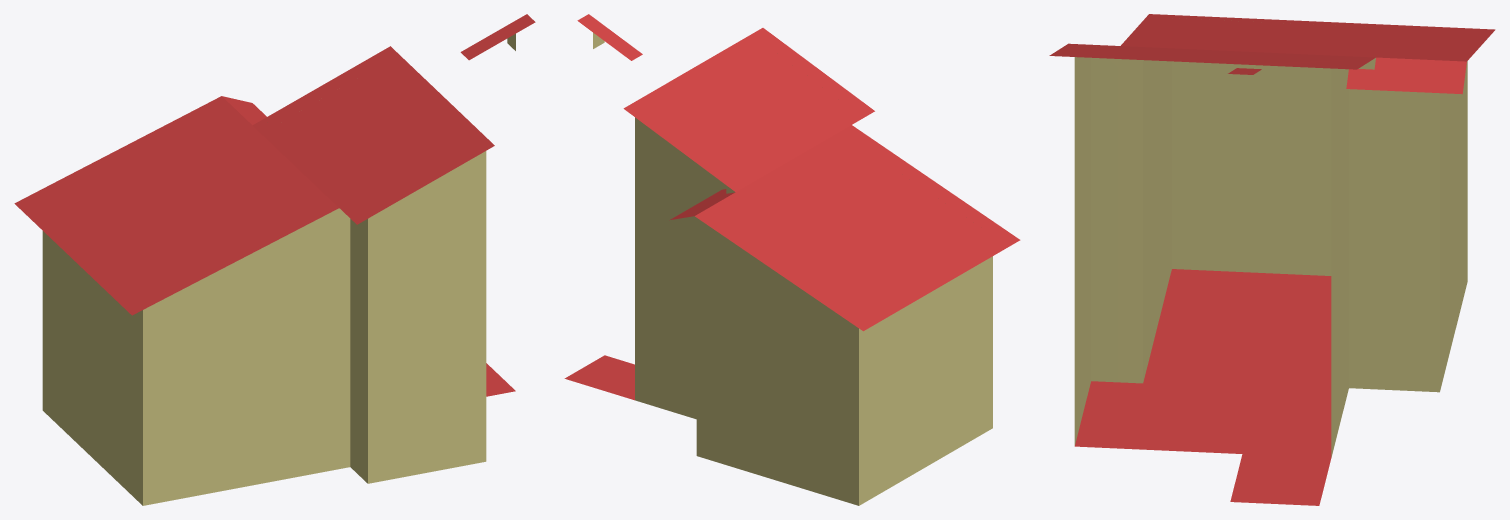
3 renders of one model, left to right at view 1: azimuth 30°, elevation 25°; view 2: azimuth 150°, elevation 25°; view 3: azimuth 270°, elevation 25°, orthographic. The views are drawn at different scales.
Bounding box in the file's own units: 11.82 × 8.69 × 9.42.
